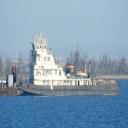tugboat: (12, 34, 122, 99)
